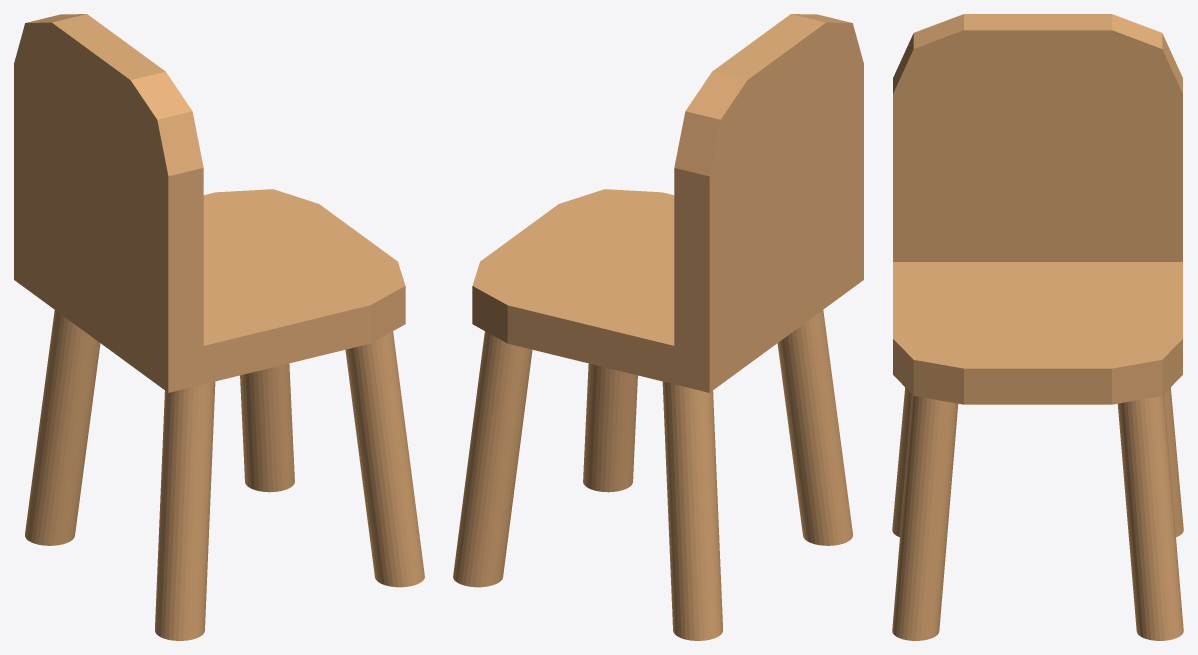
File: chair_fix.fbx
3 renders of one model, left to right at view 1: azimuth 30°, elevation 25°; view 2: azimuth 150°, elevation 25°; view 3: azimuth 270°, elevation 25°, orthographic. The views are drawn at different scales.
Parts seen in each view (by area): view 1: Cube.002; view 2: Cube.002; view 3: Cube.002.
Boxes of the visible parts, left/top/right/bottom form: Cube.002: left=14, top=14, right=424, bottom=640; Cube.002: left=453, top=14, right=863, bottom=640; Cube.002: left=892, top=14, right=1183, bottom=640.
Bounding box in the file's own units: 29.86 × 57.34 × 29.99.
